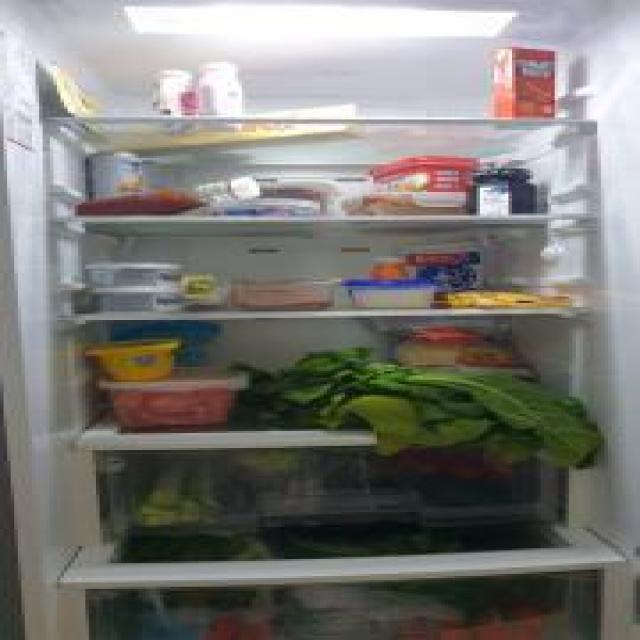butter: (357, 154, 475, 196)
cheese: (76, 260, 184, 294), (85, 289, 188, 313)
grated_cheese: (370, 312, 548, 383)
marmelade: (464, 168, 542, 216)
pak_choi: (255, 352, 598, 463)
tomato_sauce: (491, 47, 558, 128)
